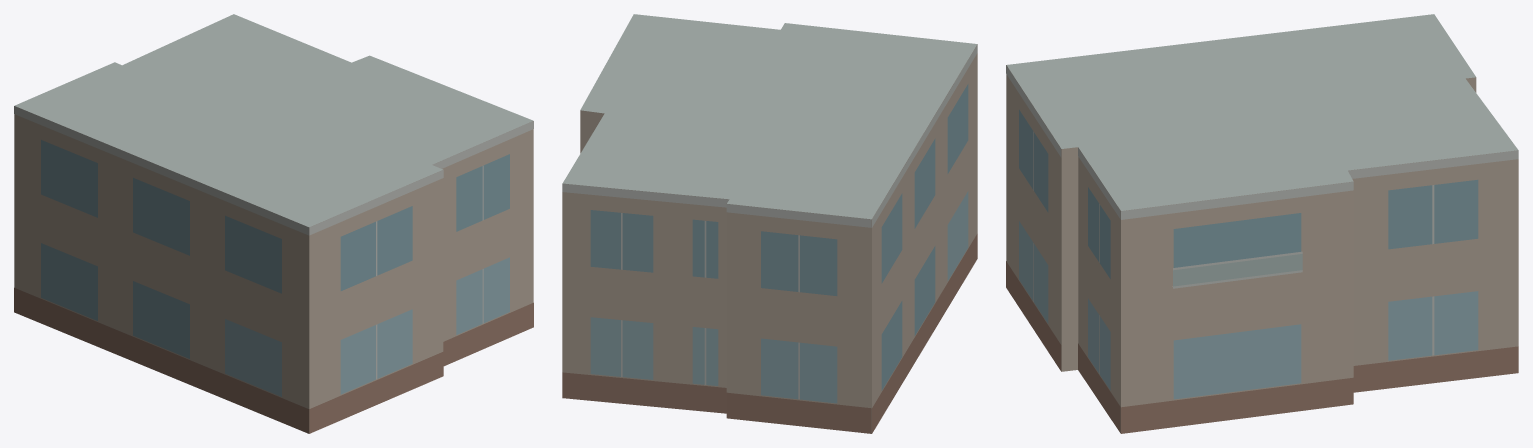
The model's file is survey-upis-32661612.glb.
3 renders of one model, left to right at view 1: azimuth 30°, elevation 25°; view 2: azimuth 150°, elevation 25°; view 3: azimuth 270°, elevation 25°, orthographic. The views are drawn at different scales.
Visible parts, largest first — view 1: survey-upis-32661612.tmp; view 2: survey-upis-32661612.tmp; view 3: survey-upis-32661612.tmp.
Boxes of the visible parts, left/top/right/bottom form: survey-upis-32661612.tmp: left=14, top=14, right=533, bottom=433; survey-upis-32661612.tmp: left=562, top=14, right=977, bottom=433; survey-upis-32661612.tmp: left=1006, top=14, right=1518, bottom=433.
Bounding box in the file's own units: 11.58 × 6.1 × 12.72.
